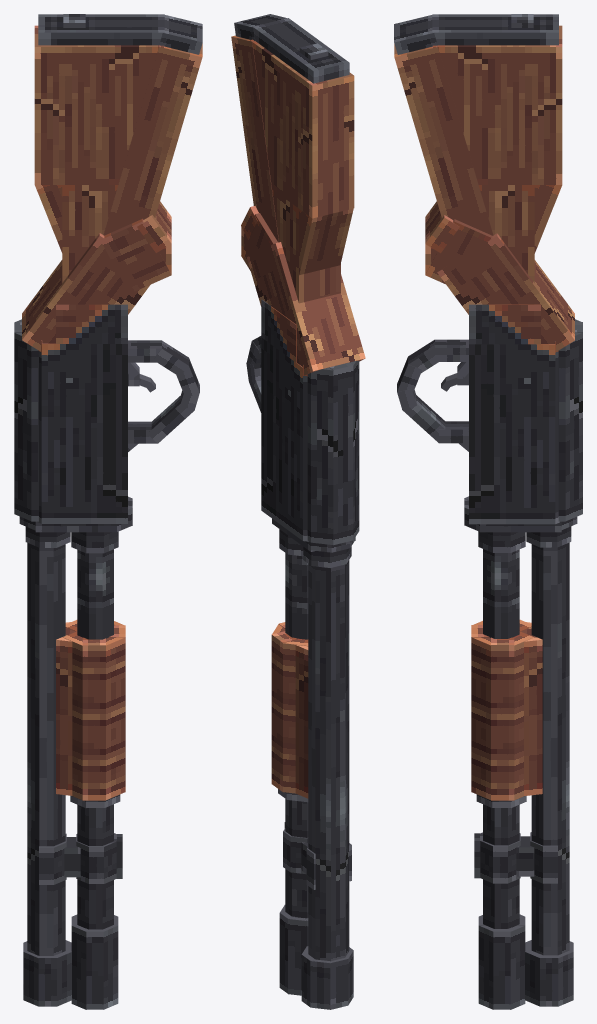
File: shotgun.gltf
3 views of the same model, side by side, from view 1: azimuth 90°, elevation 25°; view 2: azimuth 210°, elevation 25°; view 3: azimuth 270°, elevation 25° (orthographic). The views are drawn at different scales.
Parts seen in each view (by area): view 1: cube (×41); view 2: cube (×33); view 3: cube (×40).
Part boxes in pixels (box(x1,y1,x2,y2)): cube (×41): box(14, 14, 202, 1009); cube (×33): box(231, 14, 365, 1009); cube (×40): box(394, 14, 582, 1009).
Size of the model in its own units: 0.1208 by 1.95 by 0.3402.
1 material, 1 textured.
